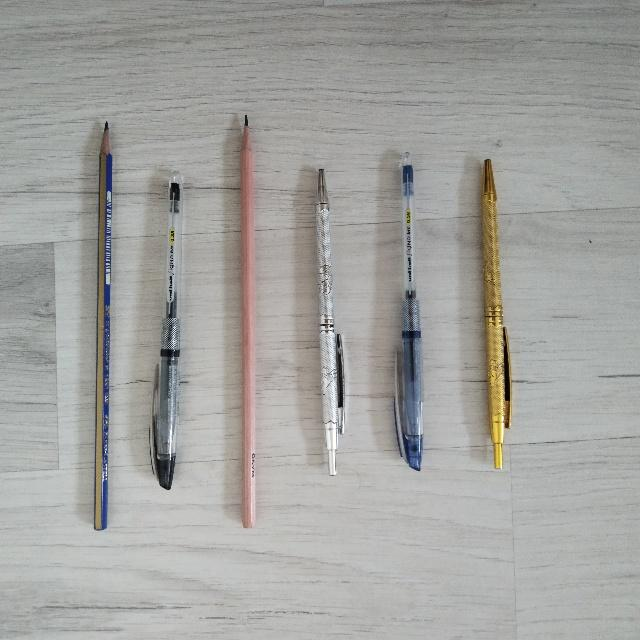pen: (150, 172, 182, 489), (394, 153, 422, 470)
pencil: (94, 123, 111, 529), (241, 115, 255, 527)
signature pen: (316, 169, 345, 475), (482, 159, 510, 468)
